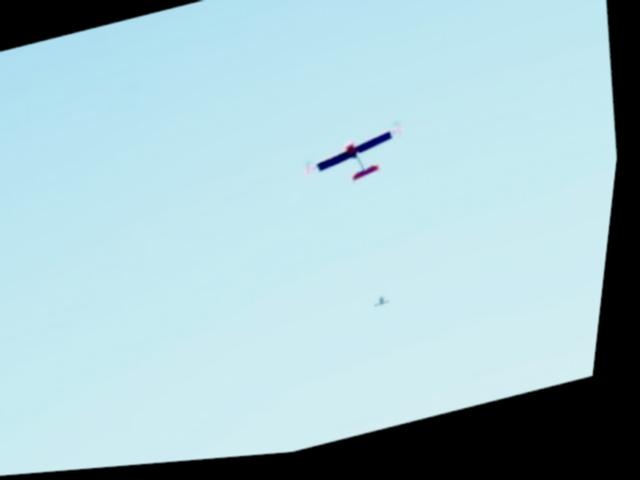uav: (294, 116, 424, 208)
